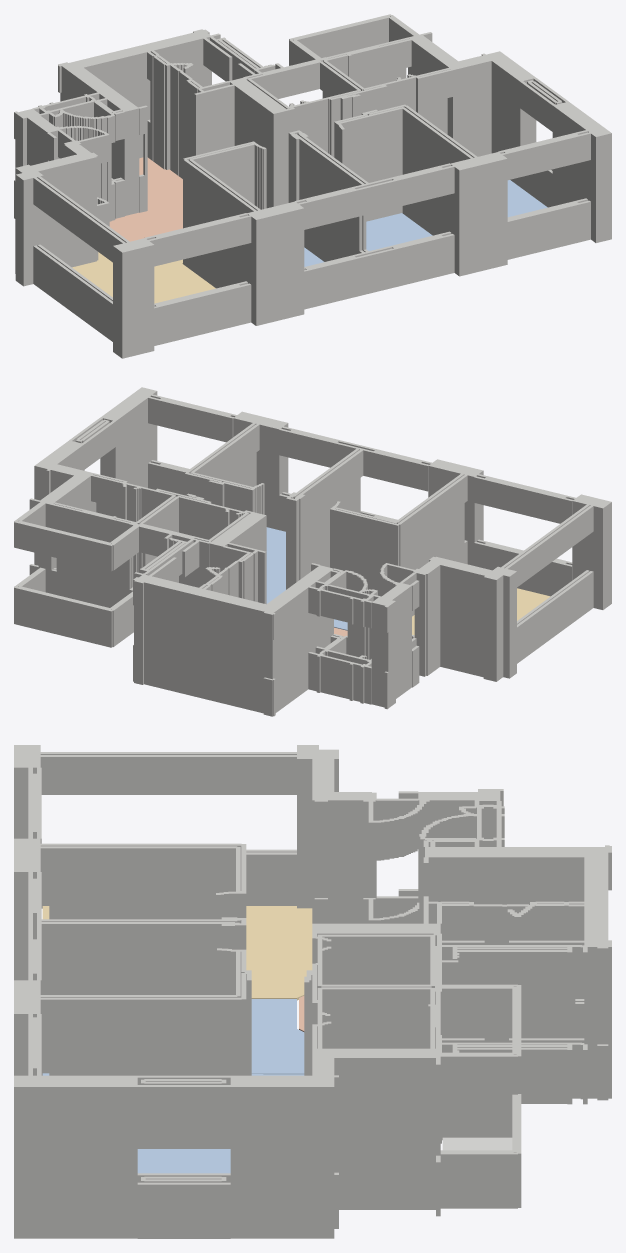
3 views of the same model, one above another, from view 1: azimuth 30°, elevation 25°; view 2: azimuth 150°, elevation 25°; view 3: azimuth 270°, elevation 25° (orthographic). The views are drawn at different scales.
Parts seen in each view (by area): view 1: walls, room:kitchen:0, room:living:3, room:bedroom:5, room:bedroom:8; view 2: walls, room:bedroom:5, room:living:3; view 3: walls, room:living:3, room:bedroom:4, room:bedroom:8, room:ledge:6.
Boxes of the visible parts, x1,y1,x2,y2 form: walls: (14, 14, 611, 358); room:kitchen:0: (109, 157, 182, 241); room:living:3: (72, 252, 215, 303); room:bedroom:5: (366, 213, 432, 250); room:bedroom:8: (507, 180, 547, 217); walls: (14, 387, 611, 716); room:bedroom:5: (266, 527, 285, 603); room:living:3: (412, 588, 550, 635); walls: (14, 745, 611, 1238); room:living:3: (42, 906, 312, 1000); room:bedroom:4: (251, 999, 304, 1074); room:bedroom:8: (137, 1149, 230, 1173); room:ledge:6: (442, 1137, 512, 1150).
Size of the model in its own units: 13.52 by 2.8 by 10.
